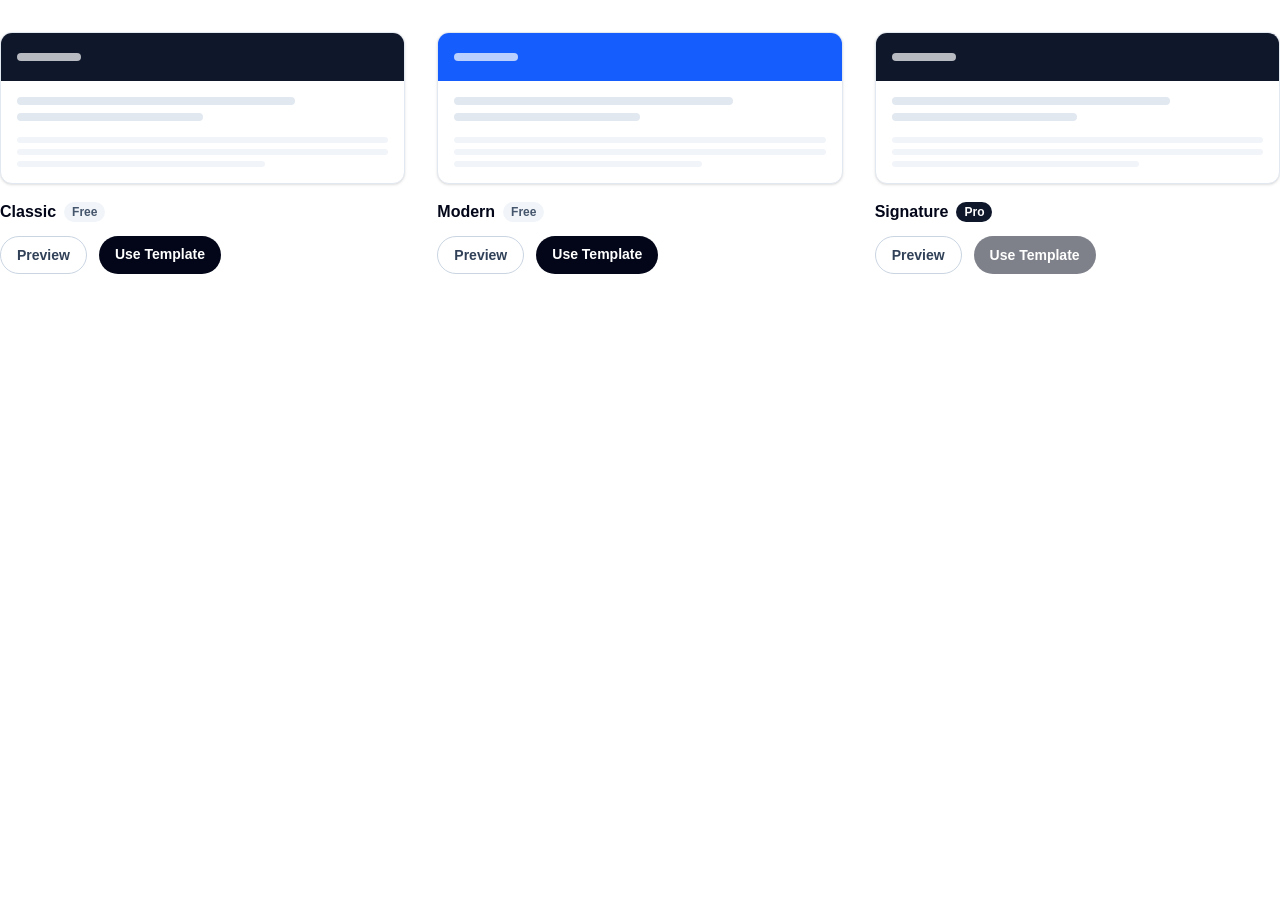
Test case: TemplatesGallery › opens a live preview modal on Preview, closes it on Close, and traps Escape
Expected: the heading "Modern" is shown, x1=437 y1=200 x2=495 y2=224
Click the button "Preview" below "Modern".
click(481, 255)  # box x1=437 y1=236 x2=524 y2=274
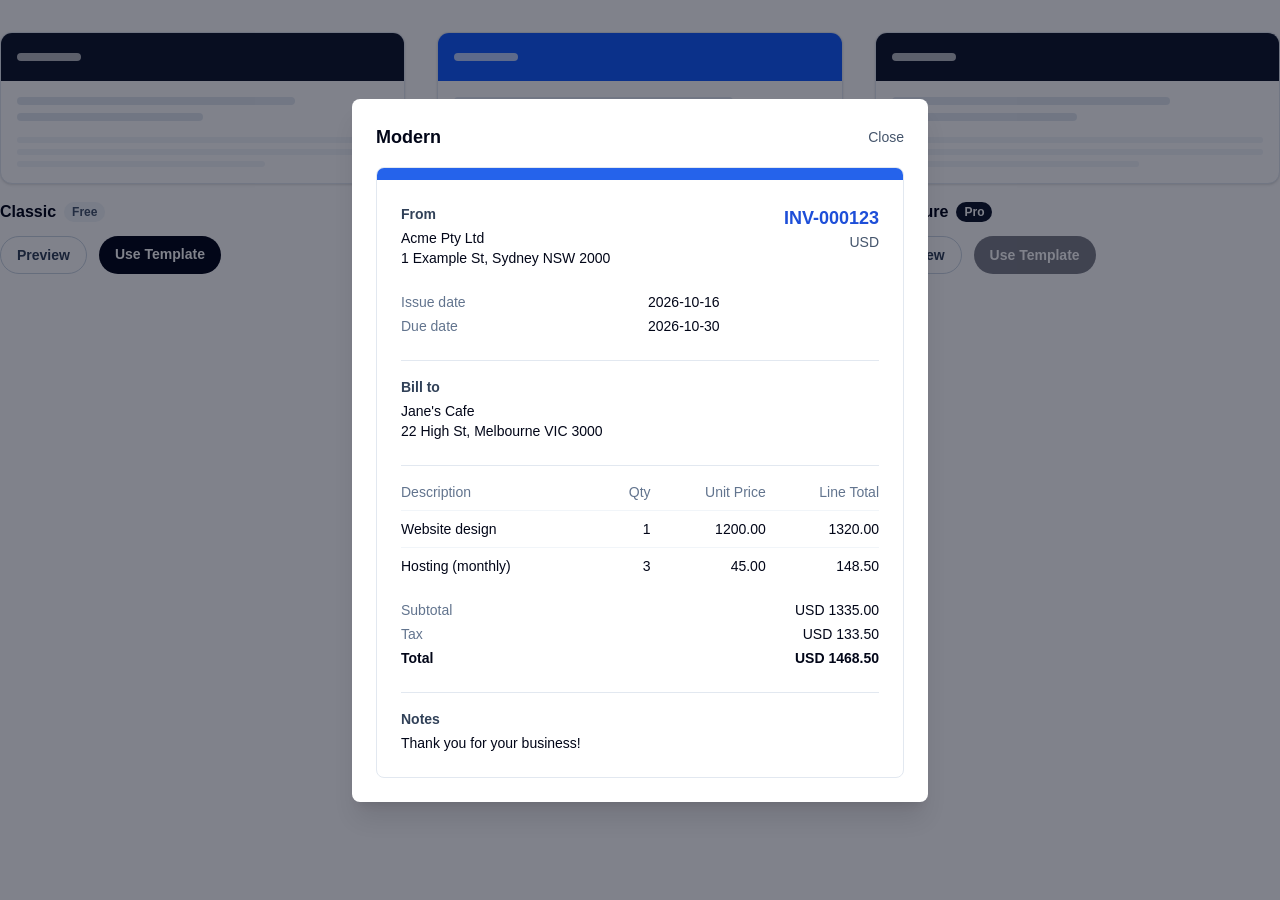
Expected: the text "Website design" is shown, x1=401 y1=510 x2=609 y2=547
Press Escape
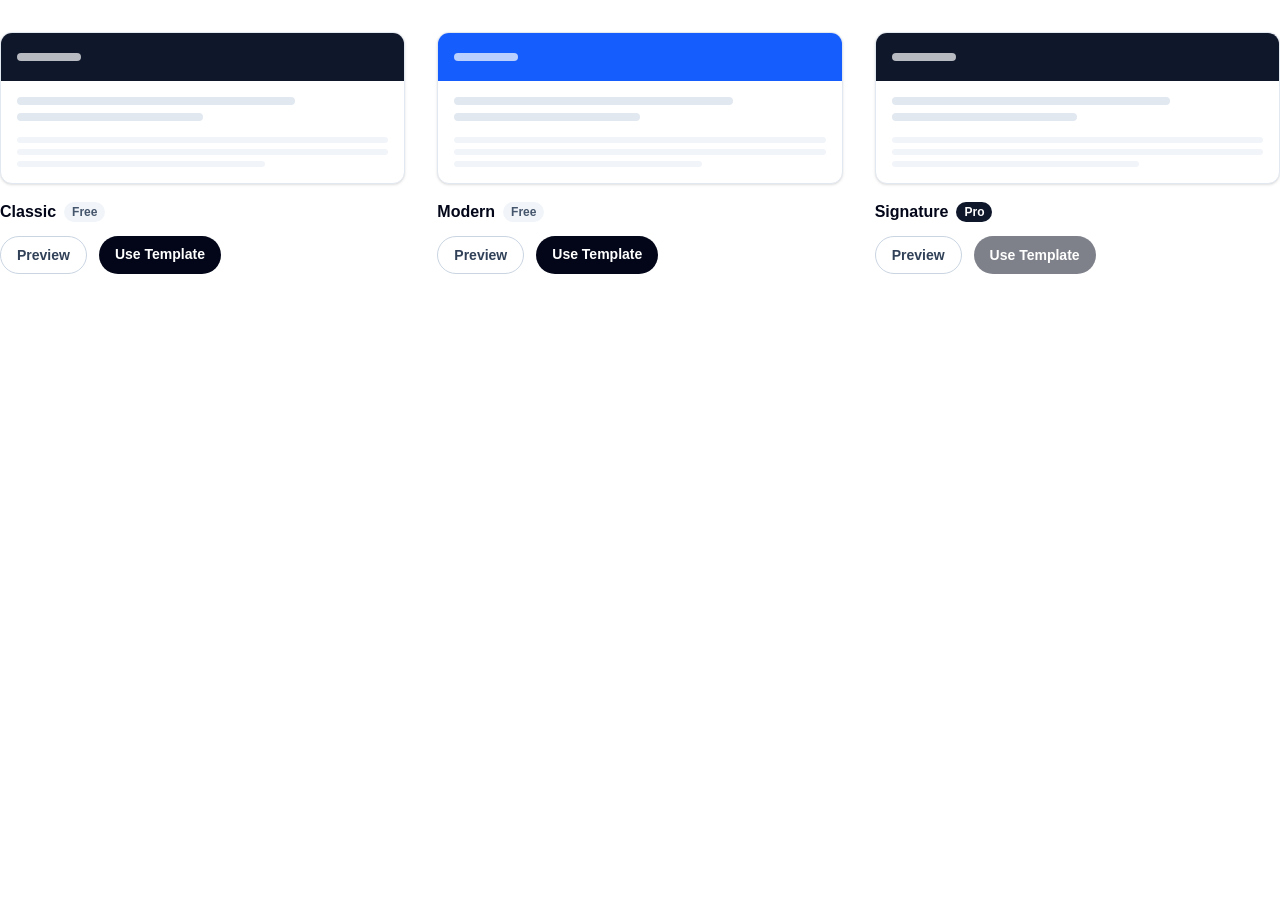
Expected: the dialog is gone
